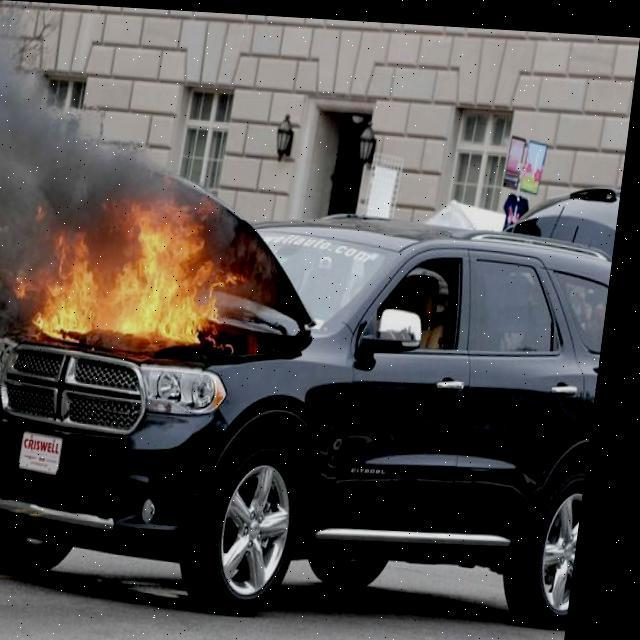Fire: (17, 148, 268, 363)
